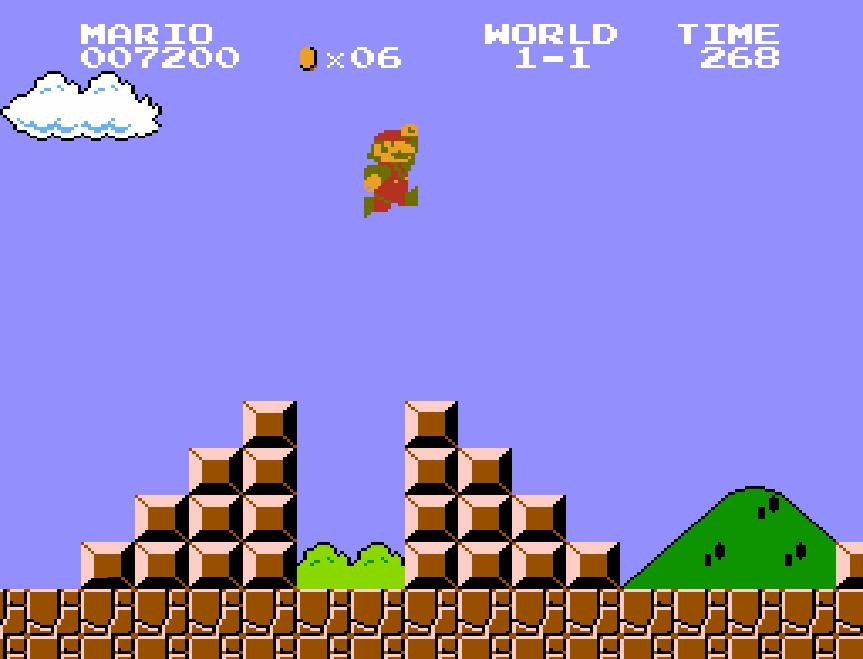big_mario: (362, 121, 420, 219)
